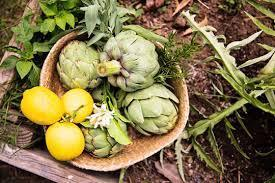lemon: (20, 86, 63, 124), (46, 122, 85, 162), (62, 89, 93, 123)
